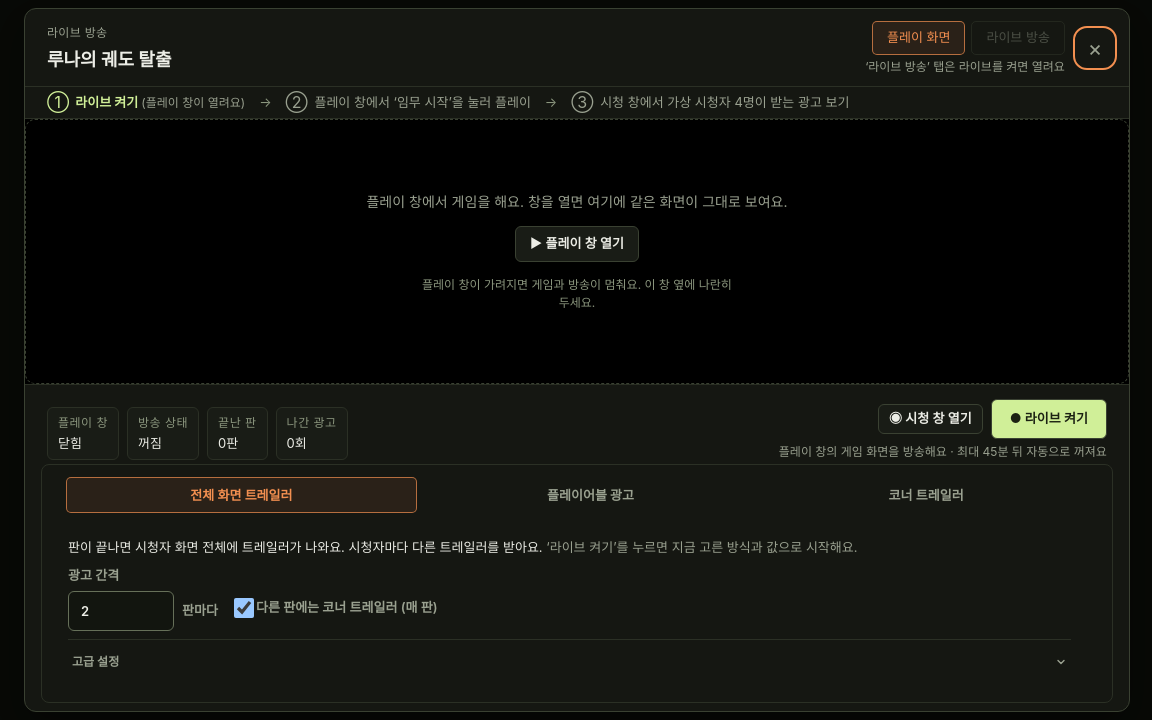
Scenario: the 플레이어블 tab starts no server by itself: 미리 켜기 does, with the price on it (R20-06) › a pick of the tab says what the server costs before anything starts; 미리 켜기 starts it and says so on the tab and in a toast: the wait, the price, when it goes, 지
Later steps or results of the test are not shown.
Click the tab with id "adtype-tab-playable".
click(591, 495)  # box x1=423 y1=477 x2=758 y2=513
Wait 6000 ms
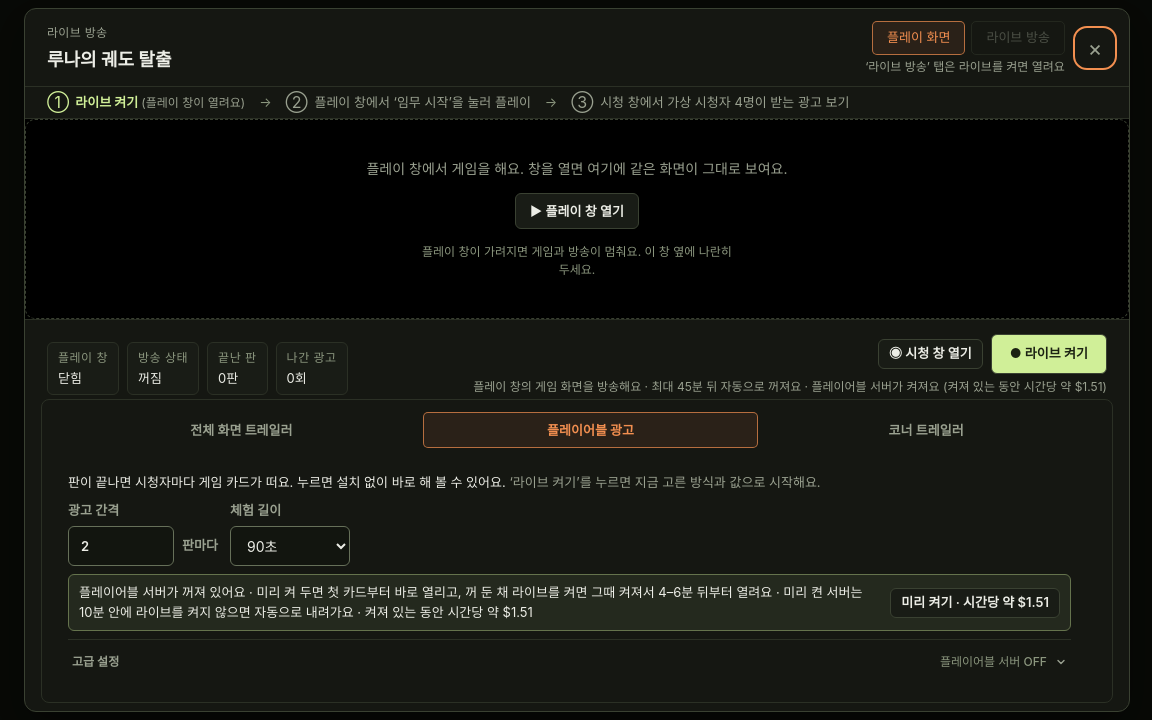
expect the message with class "standby-line" shows "플레이어블 서버가 꺼져 있어요": met, box x1=79 y1=584 x2=862 y2=620
expect the message with class "standby-line" shows "켜져 있는 동안 시간당 약 $1.51": met, box x1=79 y1=584 x2=862 y2=620
Click the button "미리 켜기 · 시간당 약 $1.51".
click(975, 602)  # box x1=890 y1=588 x2=1060 y2=618
Wait 5000 ms
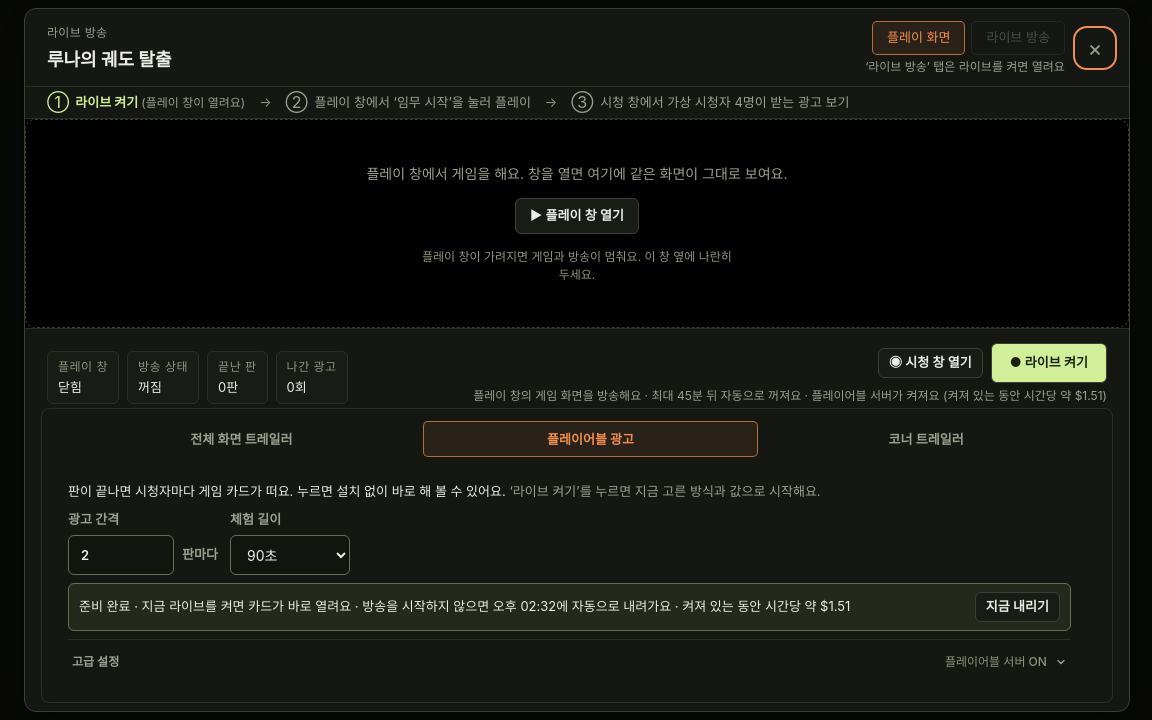
expect the message with class "standby-line" shows "켜져 있는 동안 시간당 약 $1.51": met, box x1=79 y1=598 x2=850 y2=614
expect the message with class "standby-line" shows "준비 완료 · 지금 라이브를 켜면 카드가 바로 열려요": met, box x1=79 y1=598 x2=850 y2=614
Click the button "지금 내리기".
click(1017, 607)  # box x1=975 y1=592 x2=1060 y2=622
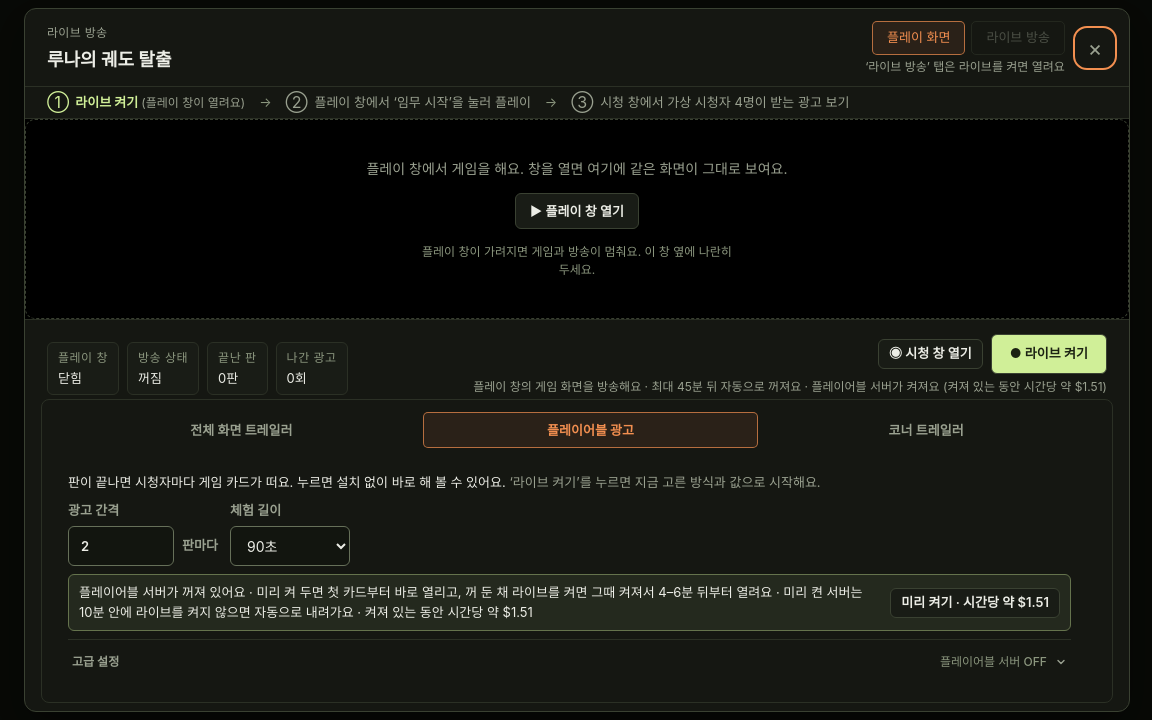
expect the message with class "standby-line" shows "플레이어블 서버가 꺼져 있어요": met, box x1=79 y1=584 x2=862 y2=620
